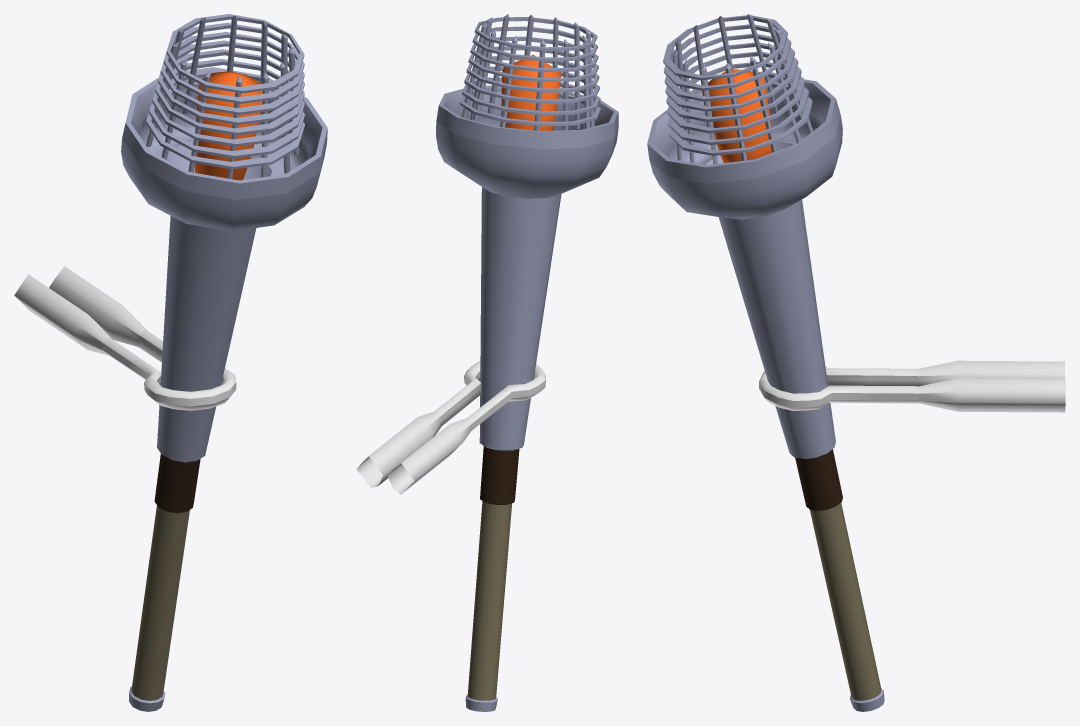
File: Pochodnia.fbx
3 views of the same model, side by side, from view 1: azimuth 30°, elevation 25°; view 2: azimuth 150°, elevation 25°; view 3: azimuth 270°, elevation 25° (orthographic). The views are drawn at different scales.
Visible parts, largest first — view 1: metal.002, holders.001; view 2: metal.002, holders.001; view 3: metal.002, holders.001.
Part boxes in pixels (x1,y1,x2,y2): metal.002: [121, 14, 327, 711]; holders.001: [14, 266, 236, 410]; metal.002: [436, 14, 618, 711]; holders.001: [356, 361, 545, 494]; metal.002: [647, 14, 884, 711]; holders.001: [759, 360, 1065, 412].
Bounding box in the file's own units: 0.3003 × 1.16 × 0.6444.
